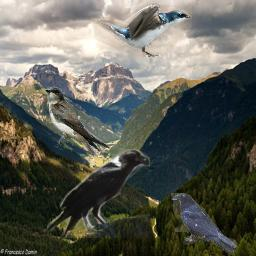Crow: (42, 146, 150, 238), (171, 193, 237, 255)
Swallow: (90, 3, 192, 57), (45, 87, 110, 158)
